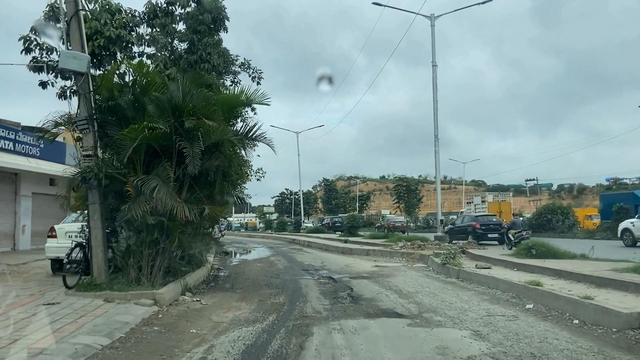RoadDamages: (300, 262, 410, 331), (413, 308, 551, 359)
